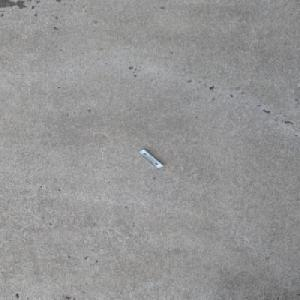ClampPart: (136, 148, 164, 169)
